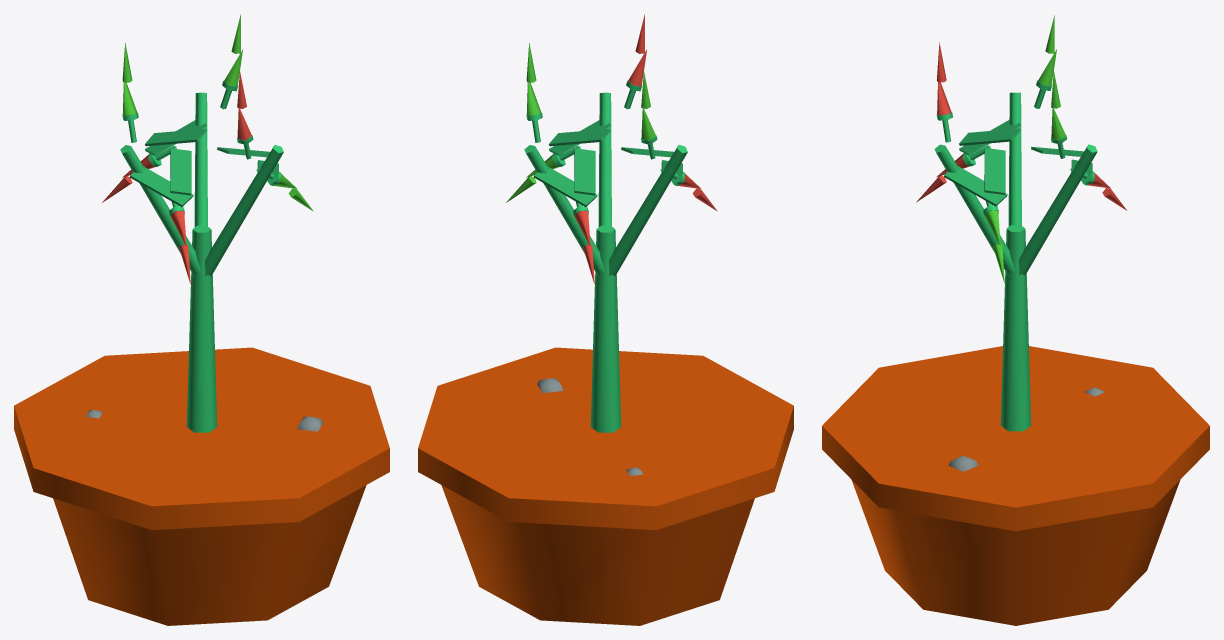
The model's file is chili.glb.
3 renders of one model, left to right at view 1: azimuth 30°, elevation 25°; view 2: azimuth 150°, elevation 25°; view 3: azimuth 270°, elevation 25°, orthographic.
Parts seen in each view (by area): view 1: rim, pot, main_stalk, chili_fruit (×5), branch_1, branch_2, branch_0, chili_leaf_0_2, chili_leaf_0_1, chili_leaf_2_2; view 2: rim, pot, main_stalk, chili_fruit (×5), branch_0, branch_1, branch_2, chili_leaf_2_2, chili_leaf_2_1, chili_leaf_1_2; view 3: rim, pot, main_stalk, chili_fruit (×5), branch_2, branch_0, branch_1, chili_leaf_1_2, chili_leaf_1_1, chili_leaf_0_2.
Boxes of the visible parts, bbox=[...] form: rim: bbox=[14, 347, 389, 530]; pot: bbox=[53, 485, 366, 625]; main_stalk: bbox=[186, 225, 217, 432]; chili_fruit (×5): bbox=[102, 14, 253, 284]; branch_1: bbox=[205, 145, 283, 276]; branch_2: bbox=[194, 92, 207, 226]; branch_0: bbox=[120, 145, 201, 277]; chili_leaf_0_2: bbox=[170, 148, 191, 195]; chili_leaf_0_1: bbox=[129, 166, 193, 206]; chili_leaf_2_2: bbox=[145, 128, 206, 146]; rim: bbox=[418, 347, 793, 530]; pot: bbox=[441, 485, 754, 625]; main_stalk: bbox=[590, 225, 621, 432]; chili_fruit (×5): bbox=[506, 14, 657, 284]; branch_0: bbox=[609, 145, 687, 276]; branch_1: bbox=[598, 92, 611, 226]; branch_2: bbox=[524, 145, 605, 277]; chili_leaf_2_2: bbox=[574, 148, 595, 195]; chili_leaf_2_1: bbox=[533, 166, 597, 206]; chili_leaf_1_2: bbox=[549, 128, 610, 146]; rim: bbox=[822, 346, 1209, 531]; pot: bbox=[851, 480, 1180, 625]; main_stalk: bbox=[1000, 225, 1031, 431]; chili_fruit (×5): bbox=[916, 15, 1067, 284]; branch_2: bbox=[1019, 144, 1097, 275]; branch_0: bbox=[1008, 92, 1021, 226]; branch_1: bbox=[934, 144, 1015, 276]; chili_leaf_1_2: bbox=[984, 148, 1005, 194]; chili_leaf_1_1: bbox=[944, 166, 1007, 206]; chili_leaf_0_2: bbox=[959, 128, 1020, 145].
Size of the model in its own units: 0.74 by 1.11 by 0.74.
